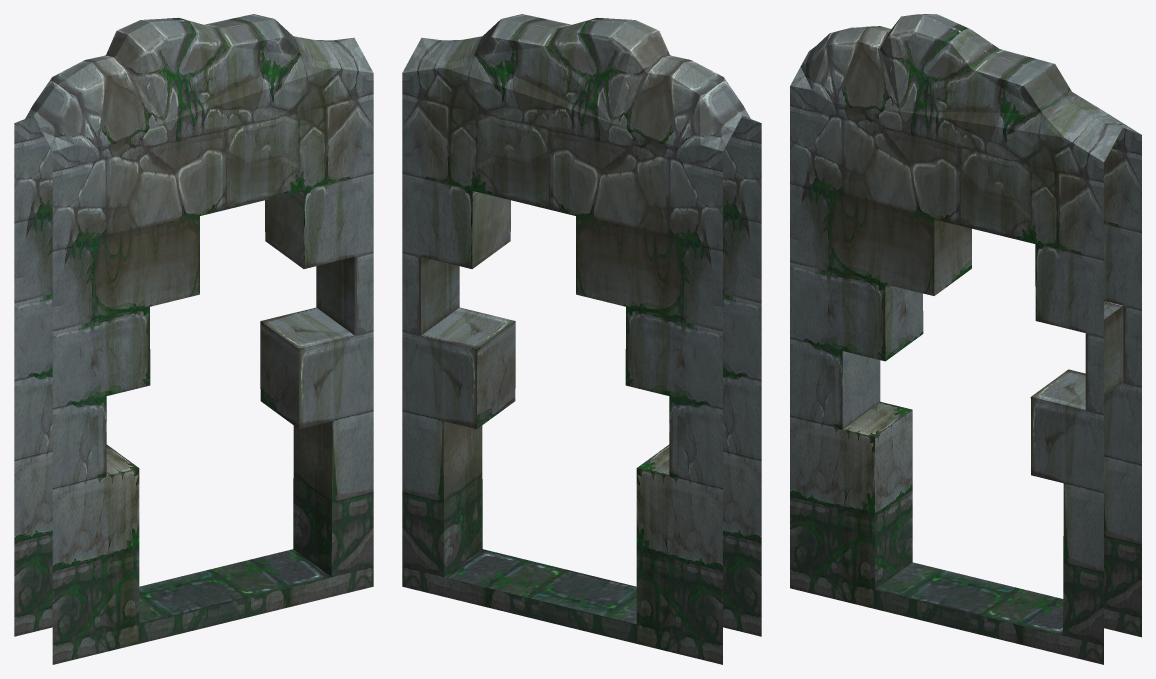
File: stemple_secret_doorway_01.fbx
The picture shows the model from 3 angles, left to right: view 1: azimuth 30°, elevation 25°; view 2: azimuth 150°, elevation 25°; view 3: azimuth 330°, elevation 25°; orthographic projection. The views are drawn at different scales.
Parts seen in each view (by area): view 1: obj1.113; view 2: obj1.113; view 3: obj1.113.
Boxes of the visible parts, left/top/right/bottom form: obj1.113: left=14, top=14, right=373, bottom=664; obj1.113: left=402, top=14, right=761, bottom=664; obj1.113: left=790, top=14, right=1141, bottom=664.
Bounding box in the file's own units: 4 × 7.15 × 0.8319.
